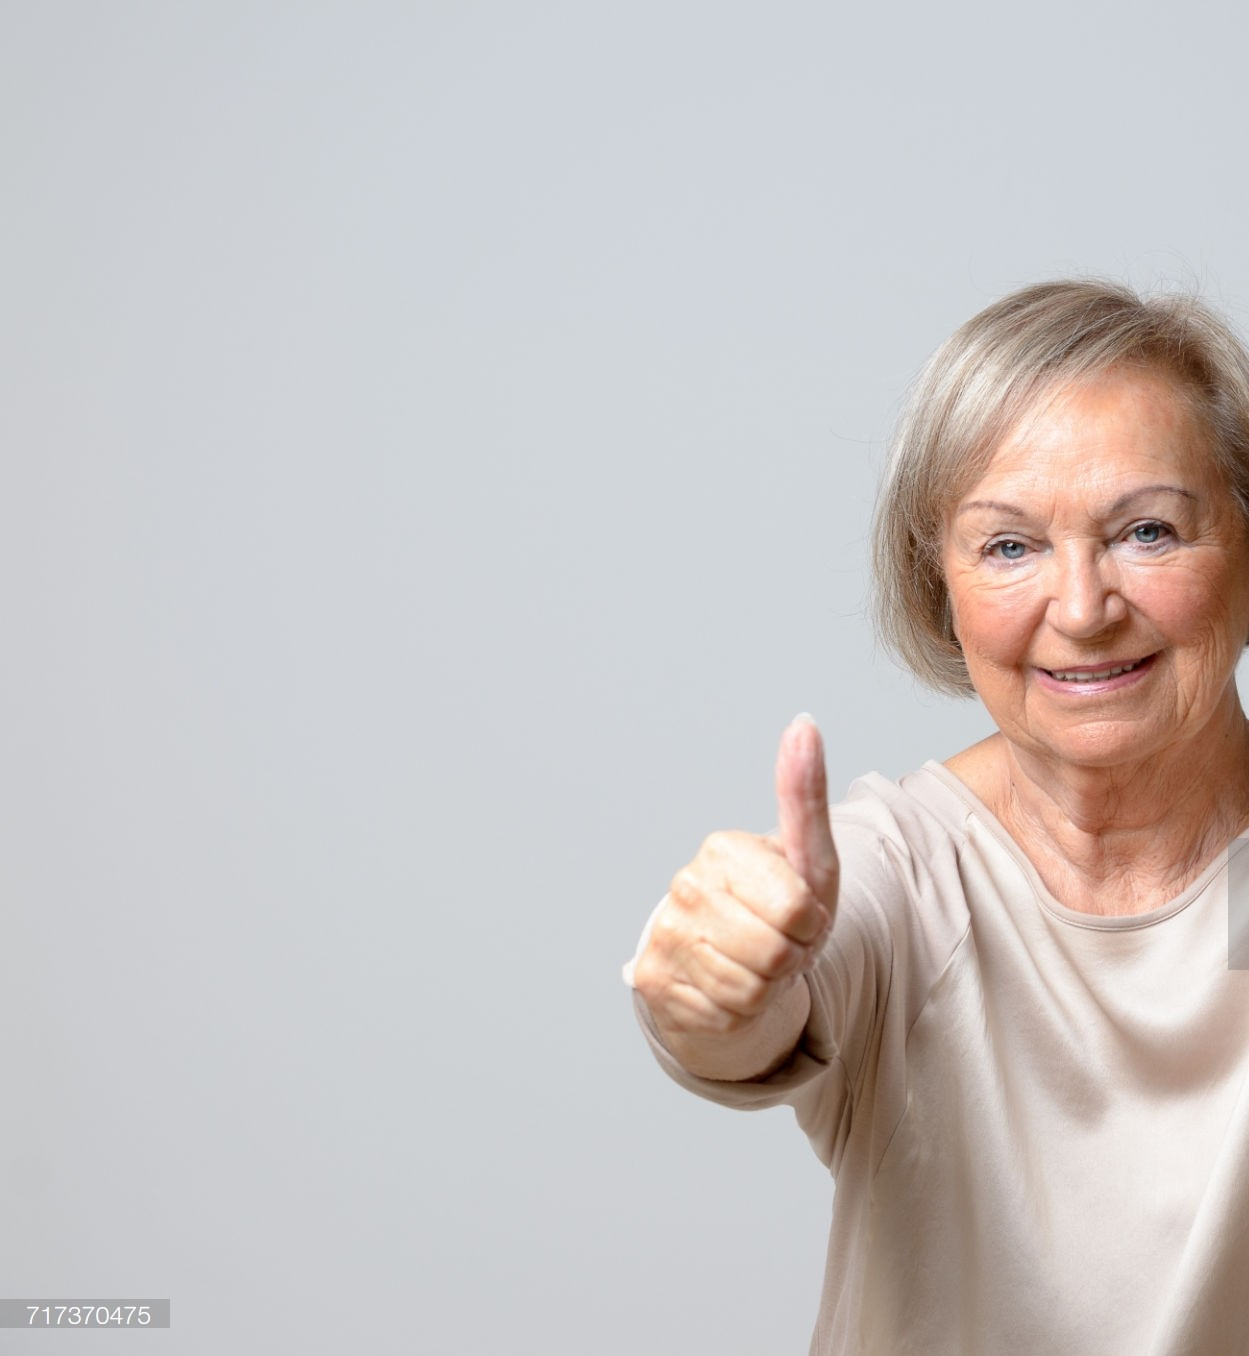thumbsup: (633, 710, 840, 1035)
